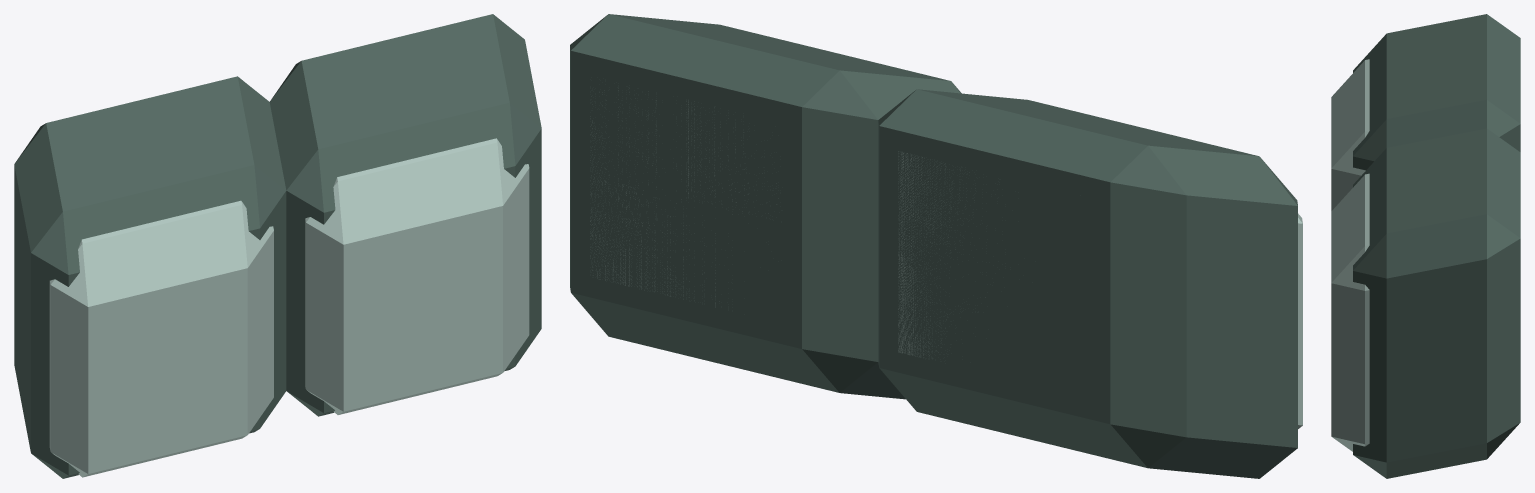
The model's file is Terrain_Block2x1.gltf.
3 renders of one model, left to right at view 1: azimuth 30°, elevation 25°; view 2: azimuth 150°, elevation 25°; view 3: azimuth 270°, elevation 25°, orthographic. The views are drawn at different scales.
Parts seen in each view (by area): view 1: Terrain_Block2x1_baked; view 2: Terrain_Block2x1_baked; view 3: Terrain_Block2x1_baked.
Part boxes in pixels (x1,y1,x2,y2): Terrain_Block2x1_baked: (14,14,541,478); Terrain_Block2x1_baked: (570,14,1302,478); Terrain_Block2x1_baked: (1331,14,1520,478).
Size of the model in its own units: 2.15 by 1.15 by 0.7.
